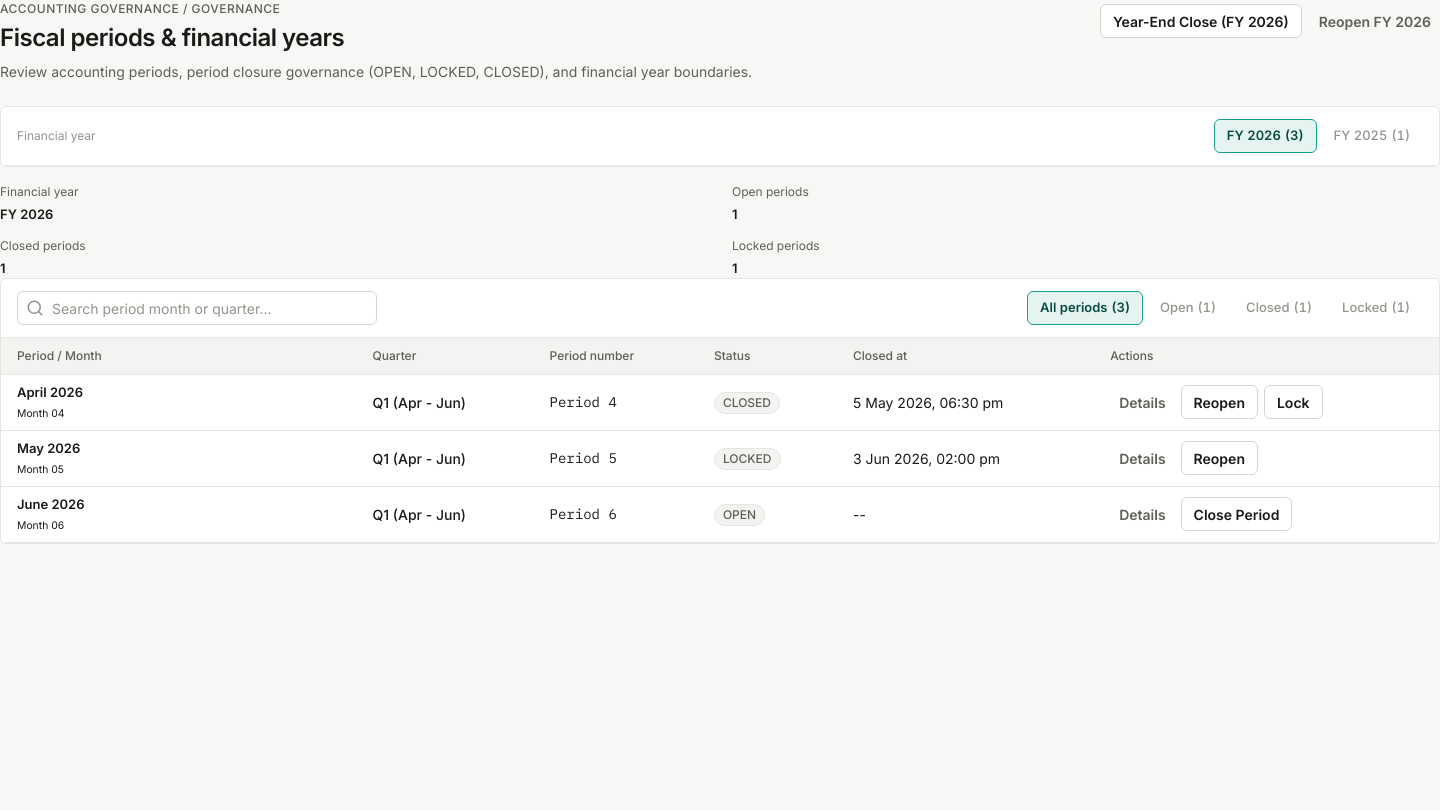
Scenario: FiscalPeriodsPage › executes Close Period confirmation flow
Check: the text "June 2026" is shown, box [17,496,84,512]
Click "Close Period" for June 2026 (period 6)
Click the button "Close Period" at (1236, 514), box [1181,498,1292,532]
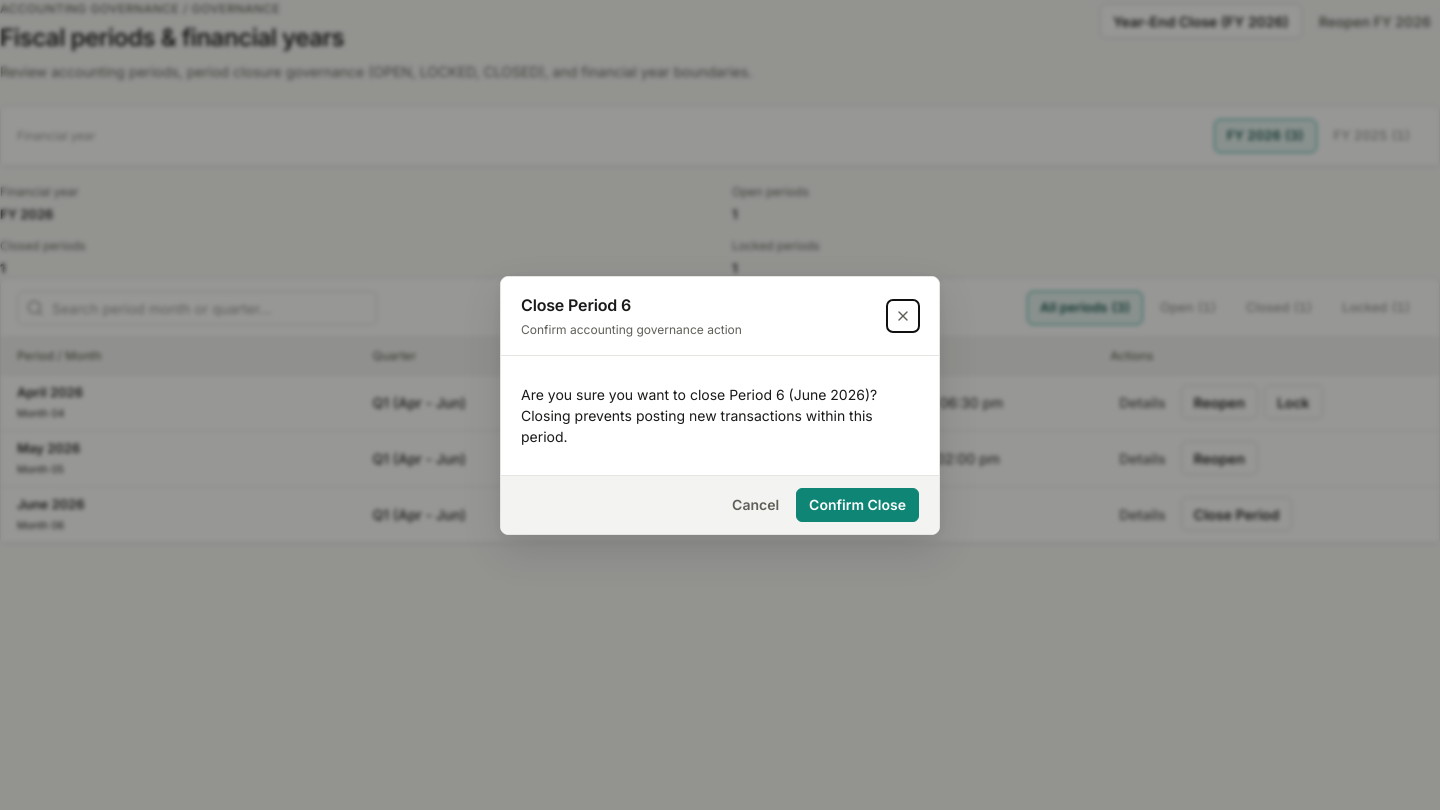
Check: the heading "Close Period 6" is shown, box [521,294,631,314]
Click the button "Confirm Close" at (858, 504), box [796,488,919,522]
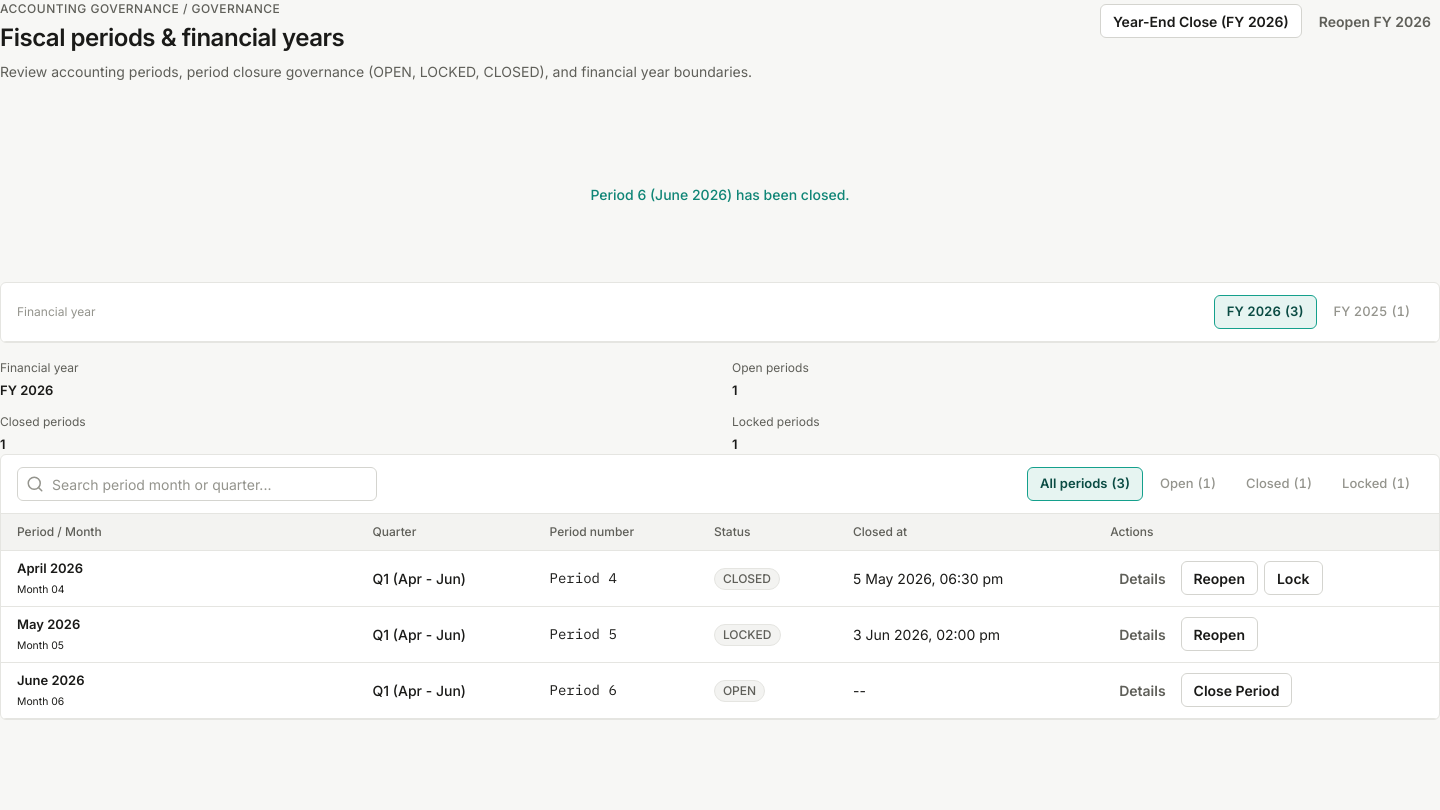
Check: the text "Period 6 (June 2026) has been closed." is shown, box [590,186,850,203]
